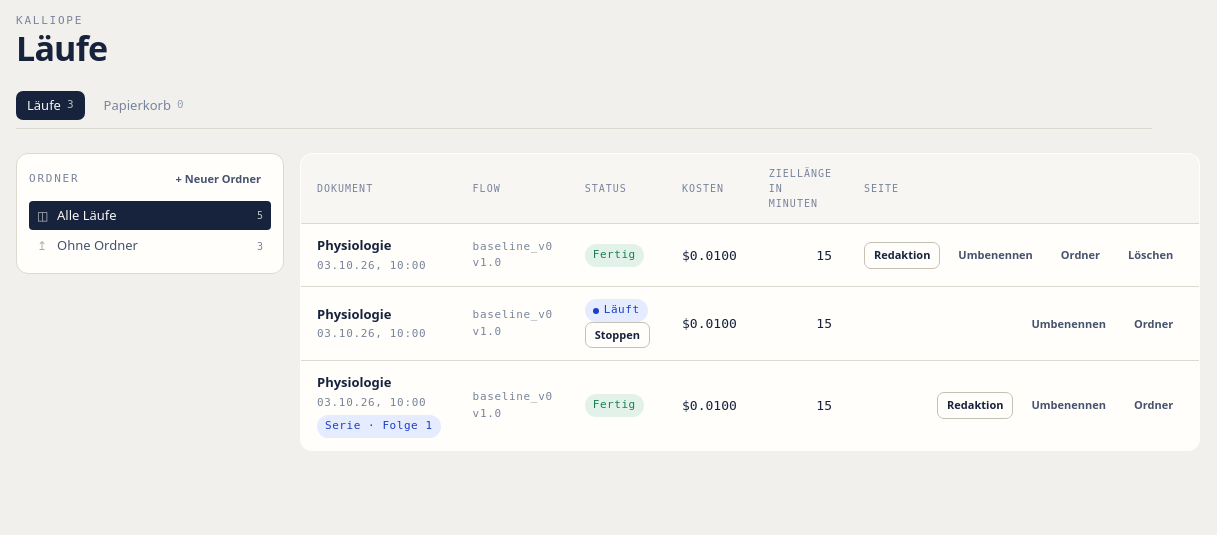
Scenario: runs trash › shows a rejected trash request
What coordinates should you click on to do the following:
click the button "Löschen"
I would click on:
 (1151, 255)
Its box is [1118,242,1183,269].
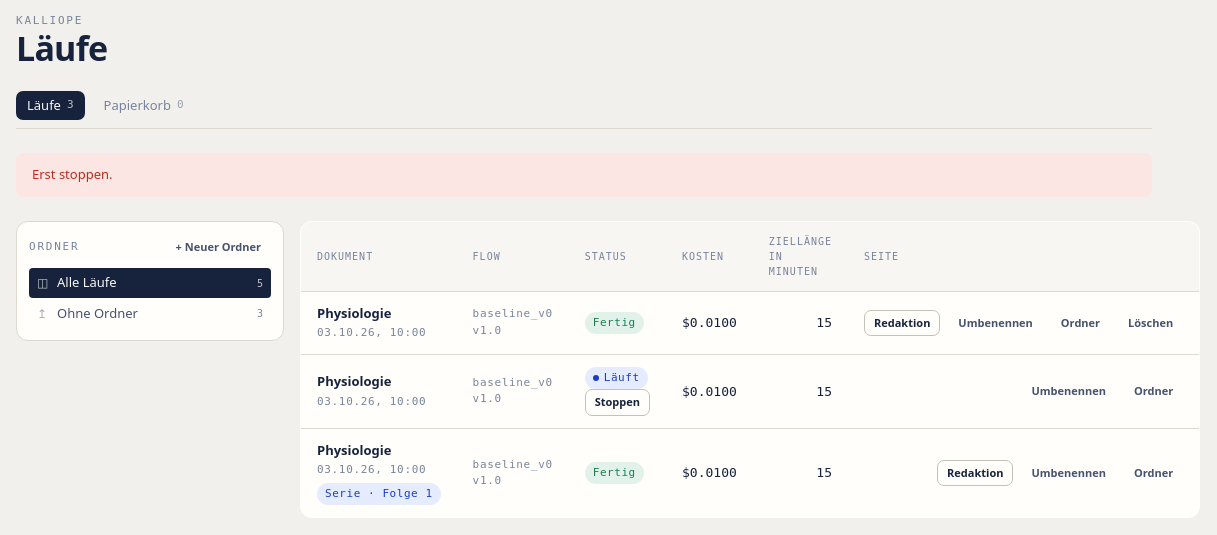
Now the message "Erst stoppen." is shown, box [16,153,1152,197]
